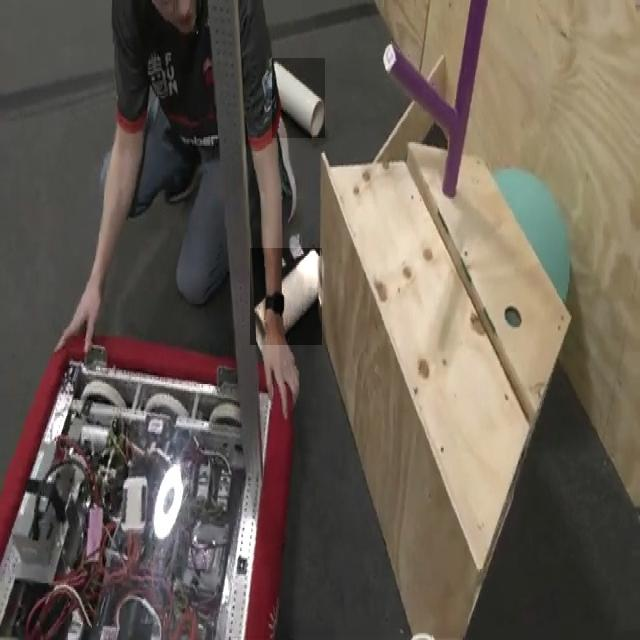Coral: (250, 248, 322, 345), (272, 58, 325, 138)
